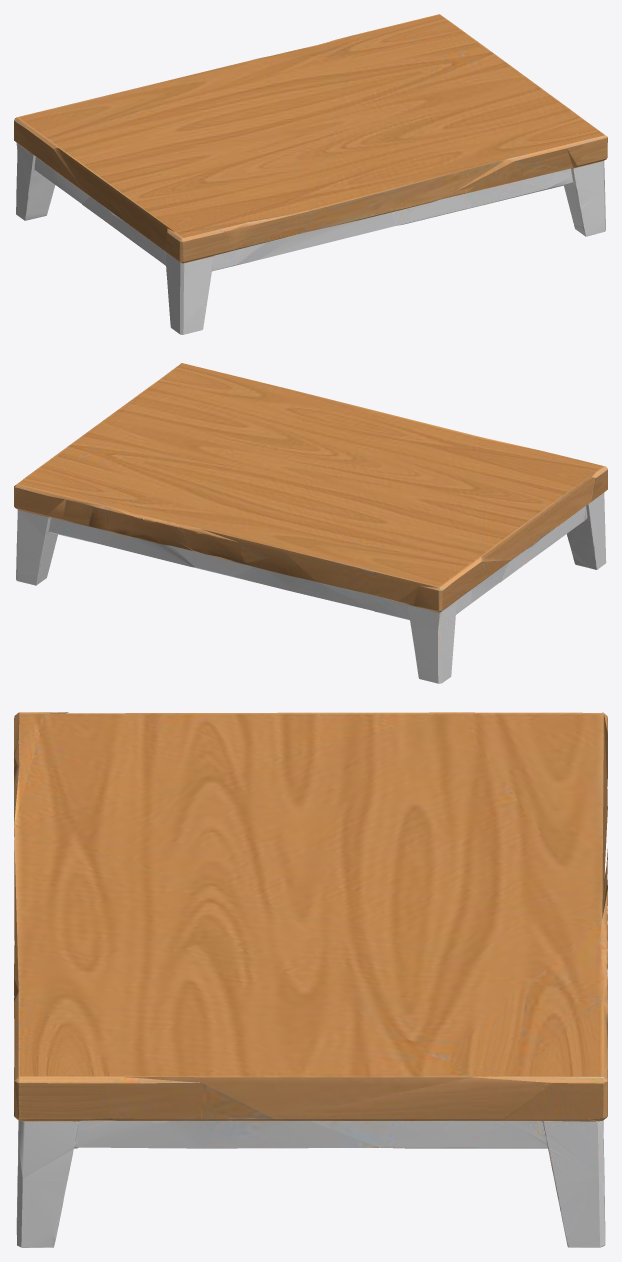
File: p_table.glb
3 views of the same model, one above another, from view 1: azimuth 30°, elevation 25°; view 2: azimuth 150°, elevation 25°; view 3: azimuth 270°, elevation 25° (orthographic). The views are drawn at different scales.
Size of the model in its own units: 1.9 by 0.4095 by 1.3.
Materials: 1 (1 with a texture image).
